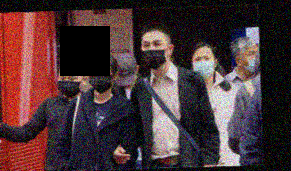with_mask: (141, 38, 168, 70), (88, 65, 113, 94), (57, 73, 82, 98), (191, 54, 214, 79), (244, 47, 259, 73)
